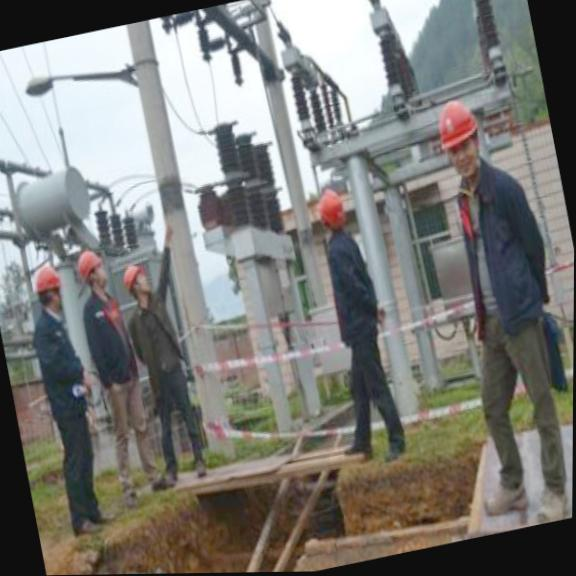no_safety_vest: (448, 154, 558, 330), (317, 223, 386, 344), (26, 307, 94, 420), (125, 288, 191, 393), (77, 286, 142, 389)
